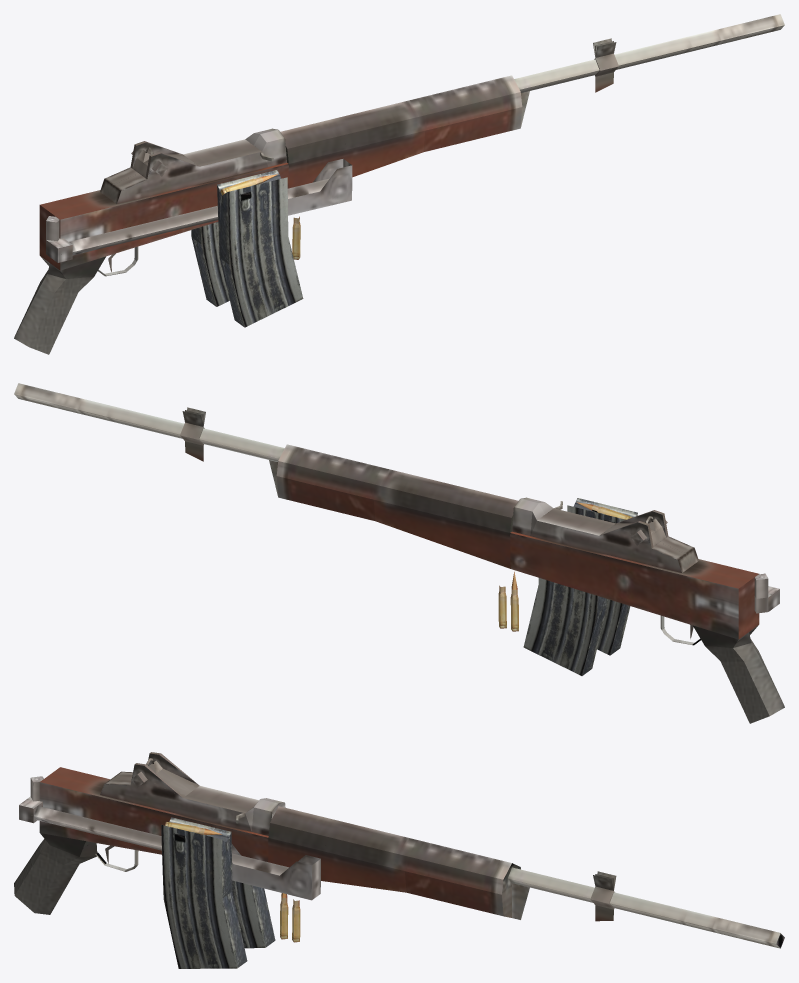
3 views of the same model, one above another, from view 1: azimuth 30°, elevation 25°; view 2: azimuth 150°, elevation 25°; view 3: azimuth 330°, elevation 25° (orthographic).
Parts seen in each view (by area): view 1: Tac_M14_Body.001, Tac_M14_Full_Magazene, Tac_M14_Magazene, Tac_M14_Slide; view 2: Tac_M14_Body.001, Tac_M14_Magazene, Tac_M14_Full_Magazene, Tac_M14_Slide; view 3: Tac_M14_Body.001, Tac_M14_Full_Magazene, Tac_M14_Magazene, Tac_M14_Slide.
Boxes of the visible parts, <box> form: Tac_M14_Body.001: <box>14,14,784,354</box>; Tac_M14_Full_Magazene: <box>217,170,303,327</box>; Tac_M14_Magazene: <box>191,222,229,306</box>; Tac_M14_Slide: <box>183,139,273,166</box>; Tac_M14_Body.001: <box>14,383,784,723</box>; Tac_M14_Magazene: <box>523,578,607,675</box>; Tac_M14_Full_Magazene: <box>567,498,637,655</box>; Tac_M14_Slide: <box>537,501,615,535</box>; Tac_M14_Body.001: <box>14,752,784,948</box>; Tac_M14_Full_Magazene: <box>161,817,247,968</box>; Tac_M14_Magazene: <box>232,880,275,948</box>; Tac_M14_Slide: <box>183,786,258,823</box>.
Size of the model in its own units: 8.63 by 1.94 by 0.8826.
6 materials, 6 textured.
